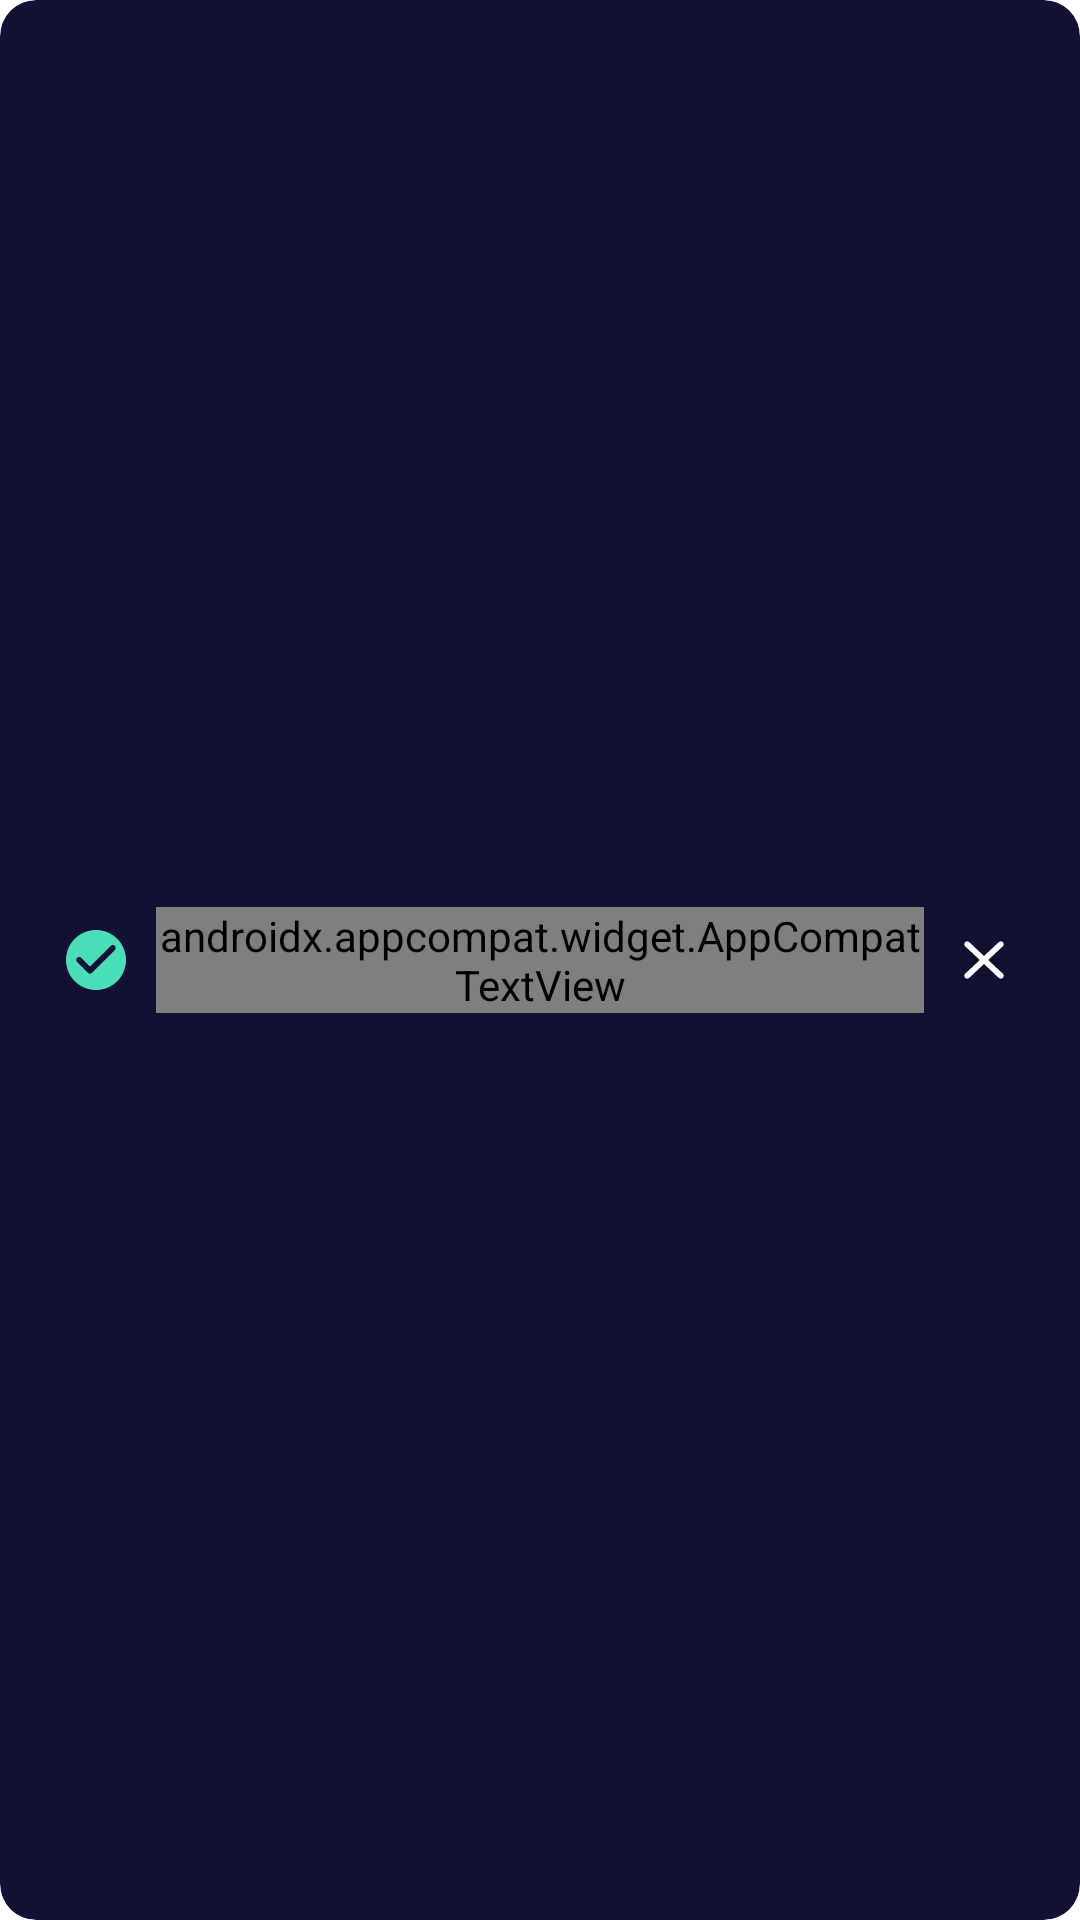

Icons on this 1080*1920 Android screen, each with its box as (x1,y1,x2,y2):
close: (964,941,1004,979)
success: (66,930,126,990)
